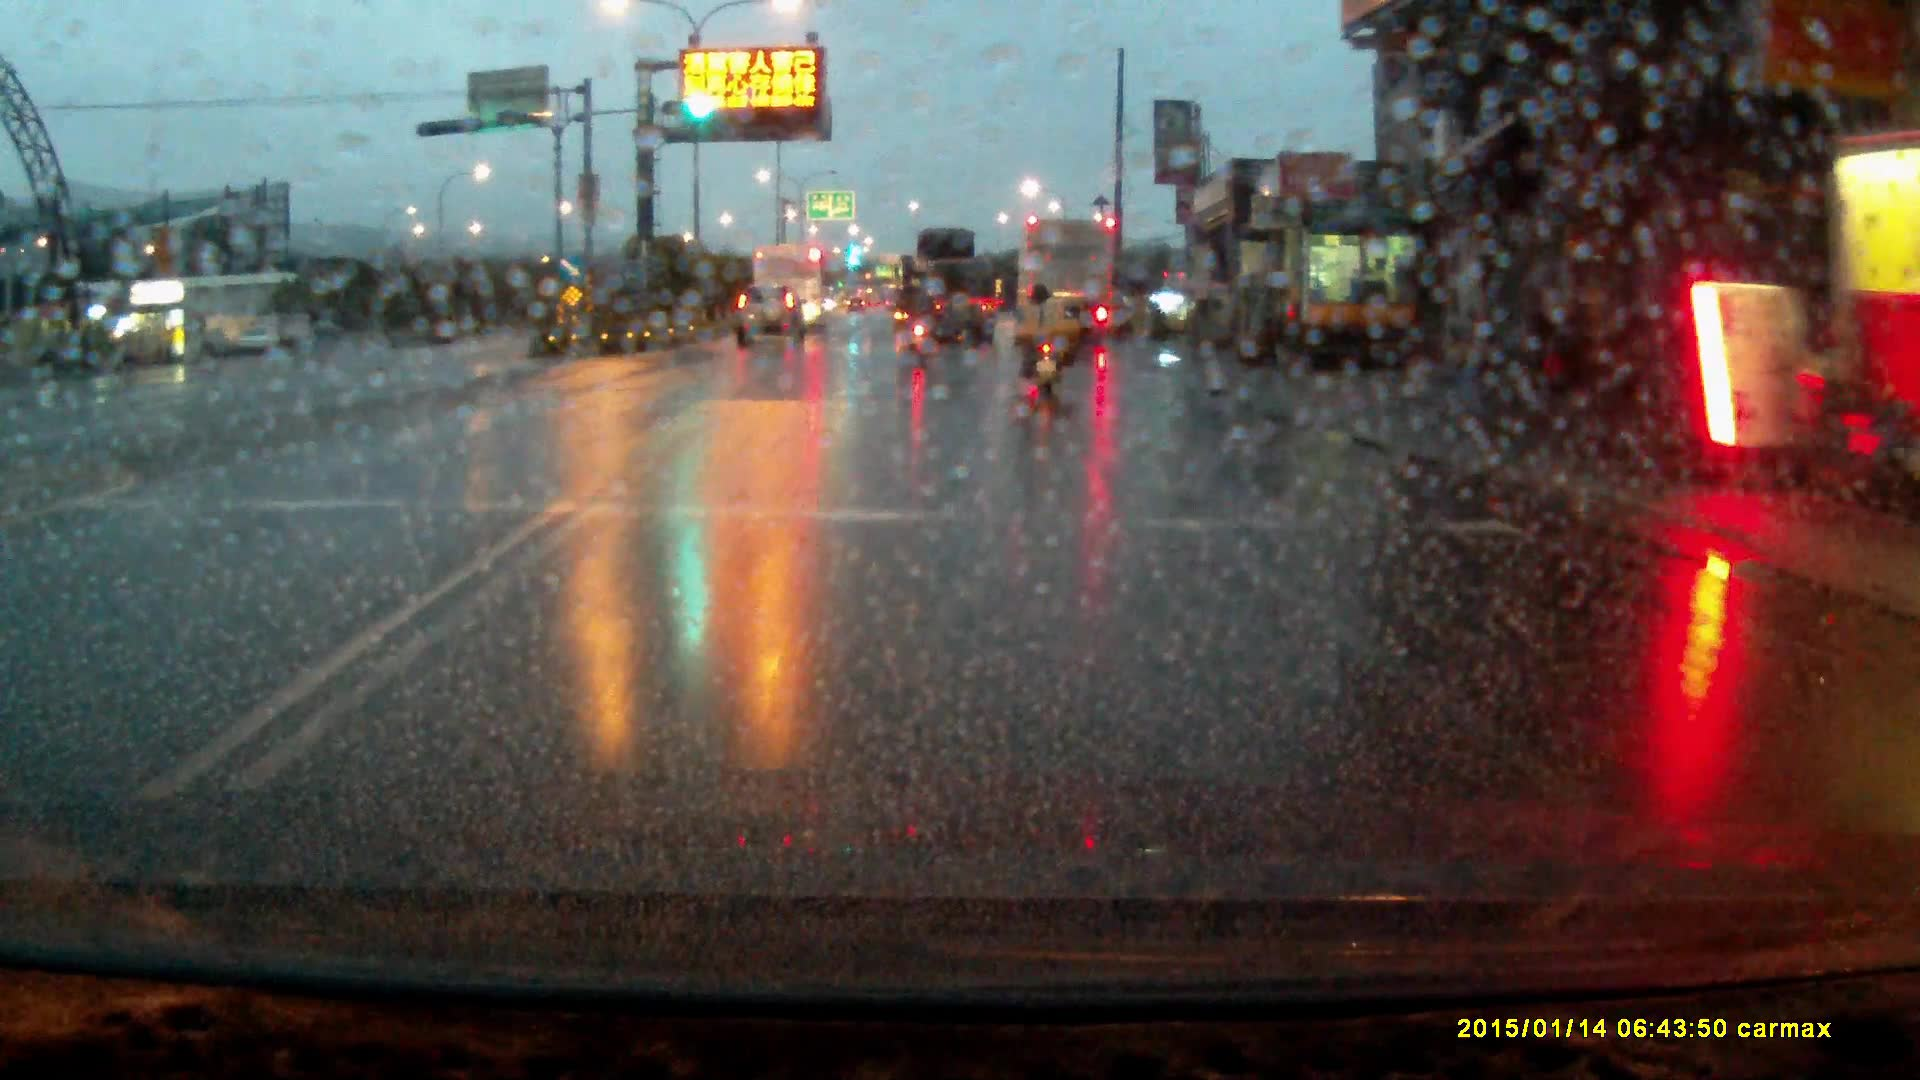rider: (1018, 287, 1076, 409), (901, 280, 939, 368)
vehicle: (1016, 219, 1118, 350), (903, 232, 997, 347), (755, 246, 829, 331), (734, 291, 808, 357)
